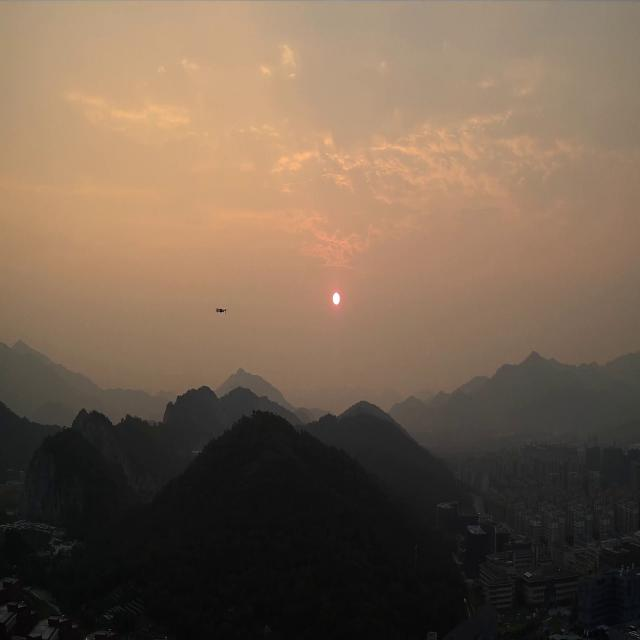drone: (214, 306, 228, 314)
